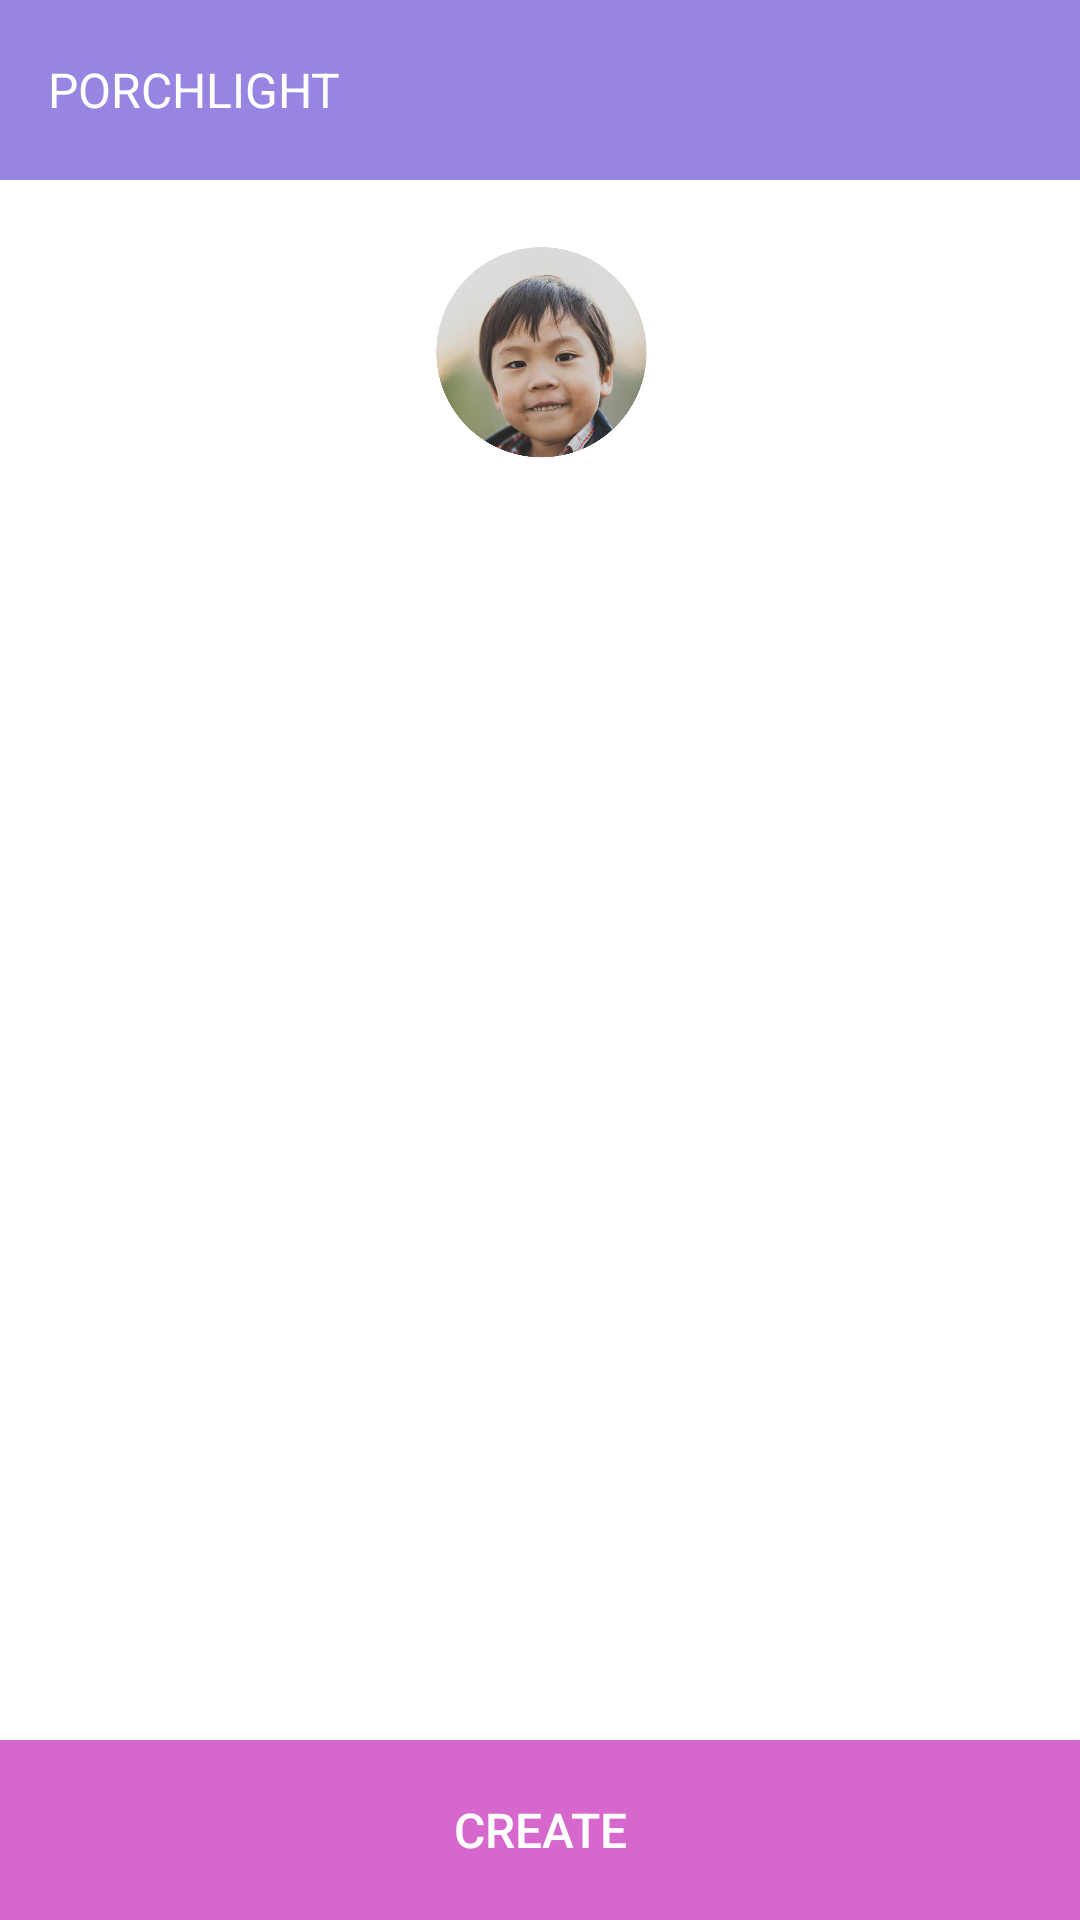

Icons on this 1080×1920 Android screen, each with the point to tap as (x=x, y=y):
user pic: (x=541, y=352)
